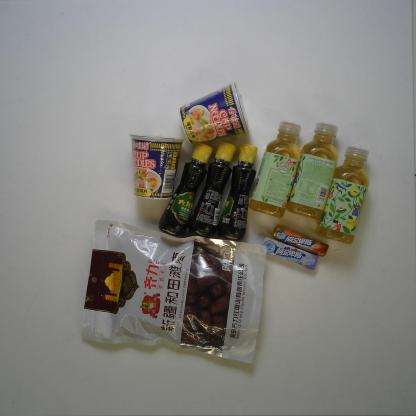Candy: (261, 235, 319, 271), (272, 225, 330, 257)
Dried Food: (80, 219, 268, 366)
Drink: (314, 145, 372, 245), (248, 118, 303, 219), (285, 121, 340, 221)
Instant Noodles: (178, 79, 252, 146), (127, 131, 186, 203)
Seasoner: (157, 141, 214, 239), (187, 141, 237, 240), (217, 144, 259, 243)
